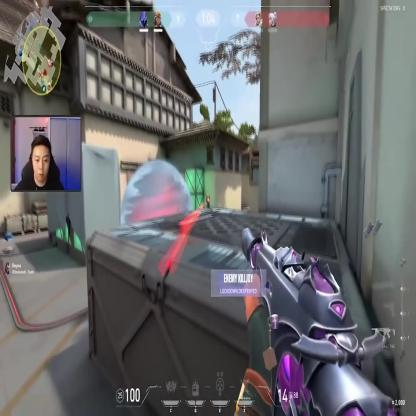enemy: (206, 194, 210, 216)
enemy_head: (206, 194, 210, 198)
